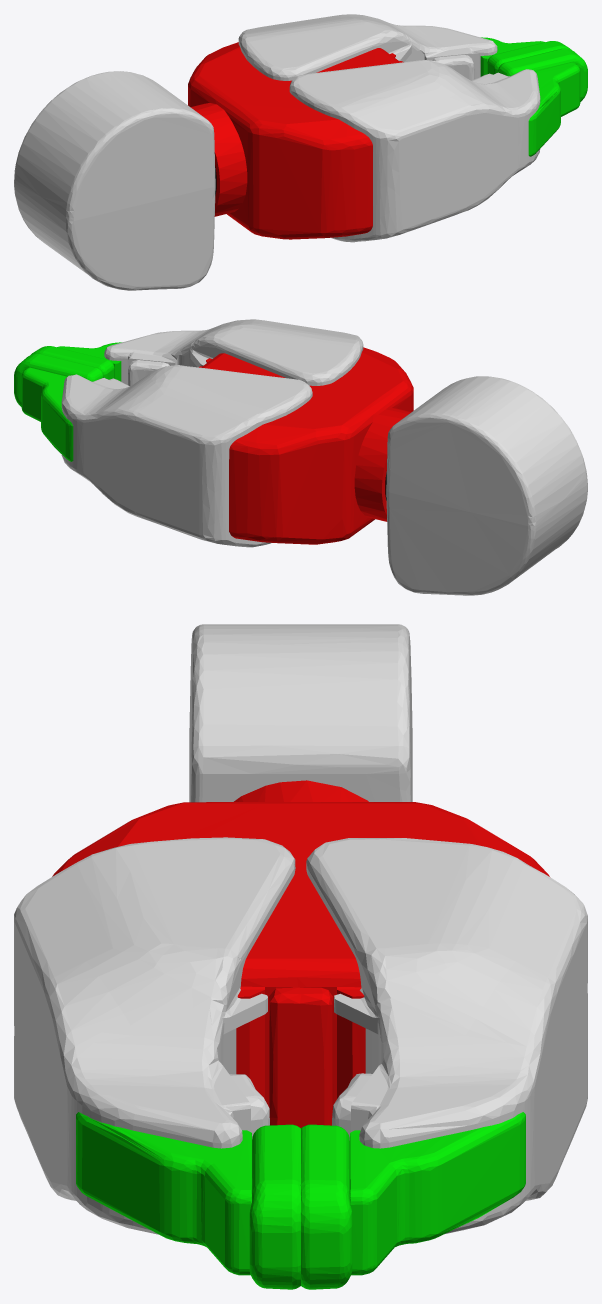
The picture shows the model from 3 angles, top to bottom: view 1: azimuth 30°, elevation 25°; view 2: azimuth 150°, elevation 25°; view 3: azimuth 270°, elevation 25°; orthographic projection. The views are drawn at different scales.
Parts seen in each view (by area): view 1: Untitled_005, Untitled_002, Untitled_003, Untitled, Untitled_001, l_gripper_l_finger_tip_link; view 2: Untitled_005, Untitled, Untitled_003, Untitled_002, l_gripper_l_finger_tip_link, Untitled_001; view 3: Untitled_002, Untitled, Untitled_003, Untitled_005, l_gripper_l_finger_tip_link, Untitled_001.
Part boxes in pixels (x1=…): Untitled_005: x1=14, y1=71, x2=215, y2=290; Untitled_002: x1=289, y1=60, x2=540, y2=242; Untitled_003: x1=188, y1=42, x2=403, y2=239; Untitled: x1=238, y1=14, x2=497, y2=80; Untitled_001: x1=498, y1=48, x2=587, y2=156; l_gripper_l_finger_tip_link: x1=480, y1=37, x2=571, y2=76; Untitled_005: x1=386, y1=376, x2=587, y2=595; Untitled: x1=61, y1=365, x2=312, y2=547; Untitled_003: x1=199, y1=347, x2=413, y2=544; Untitled_002: x1=104, y1=319, x2=363, y2=385; l_gripper_l_finger_tip_link: x1=14, y1=353, x2=103, y2=461; Untitled_001: x1=31, y1=342, x2=121, y2=381; Untitled_002: x1=14, y1=837, x2=295, y2=1234; Untitled: x1=306, y1=838, x2=587, y2=1234; Untitled_003: x1=52, y1=780, x2=549, y2=1127; Untitled_005: x1=189, y1=624, x2=412, y2=802; l_gripper_l_finger_tip_link: x1=300, y1=1112, x2=525, y2=1289; Untitled_001: x1=76, y1=1112, x2=300, y2=1289.
Size of the model in its own units: 0.2369 by 0.1115 by 0.0782.
